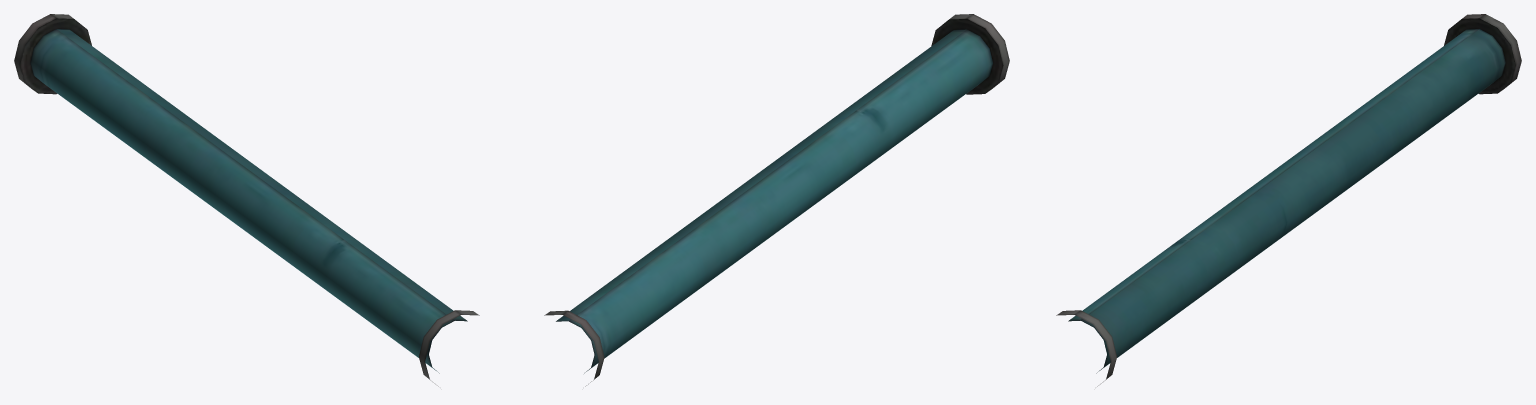
The picture shows the model from 3 angles, left to right: view 1: azimuth 30°, elevation 25°; view 2: azimuth 150°, elevation 25°; view 3: azimuth 330°, elevation 25°; orthographic projection.
Parts seen in each view (by area): view 1: body0_model0_lod0_mesh0; view 2: body0_model0_lod0_mesh0; view 3: body0_model0_lod0_mesh0.
Part boxes in pixels (x1,y1,x2,y2): body0_model0_lod0_mesh0: (14, 14, 479, 386); body0_model0_lod0_mesh0: (544, 14, 1009, 386); body0_model0_lod0_mesh0: (1056, 14, 1521, 386).
Size of the model in its own units: 13.13 by 13.13 by 128.
1 material, 1 textured.
